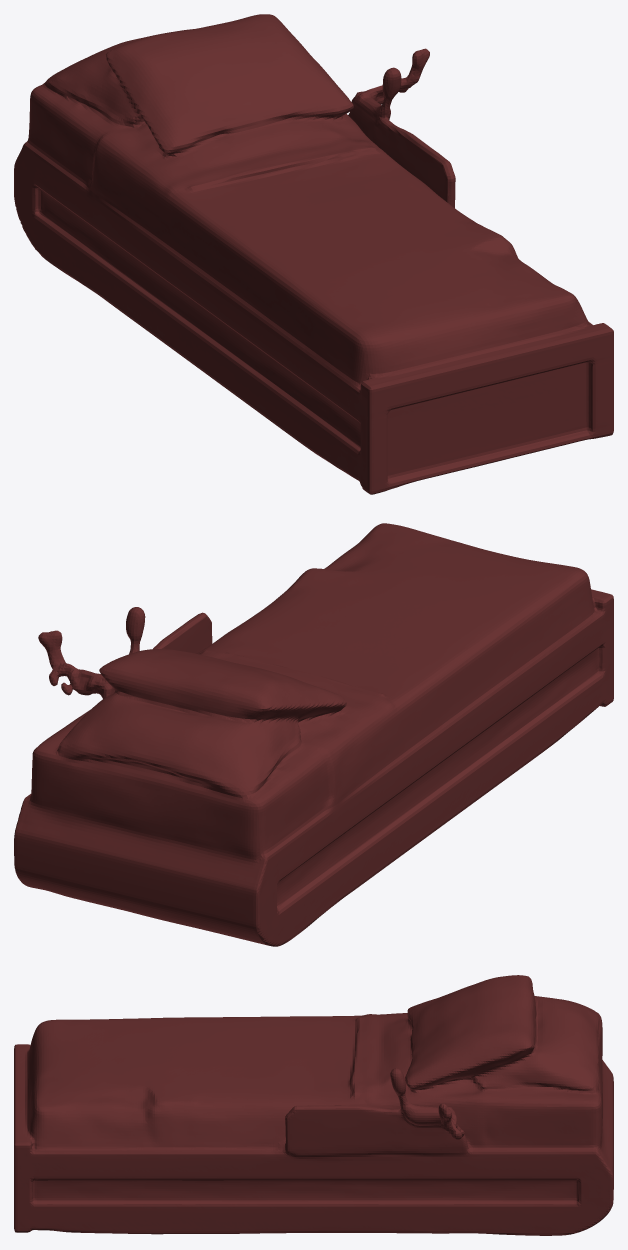
The picture shows the model from 3 angles, top to bottom: view 1: azimuth 30°, elevation 25°; view 2: azimuth 150°, elevation 25°; view 3: azimuth 270°, elevation 25°; orthographic projection. The views are drawn at different scales.
Parts seen in each view (by area): view 1: world; view 2: world; view 3: world.
Part boxes in pixels (box(x1,y1,x2,y2)): world: box(14, 14, 613, 494); world: box(14, 523, 613, 946); world: box(14, 975, 613, 1235).
Bounding box in the file's own units: 1.01 × 0.6664 × 1.96.
